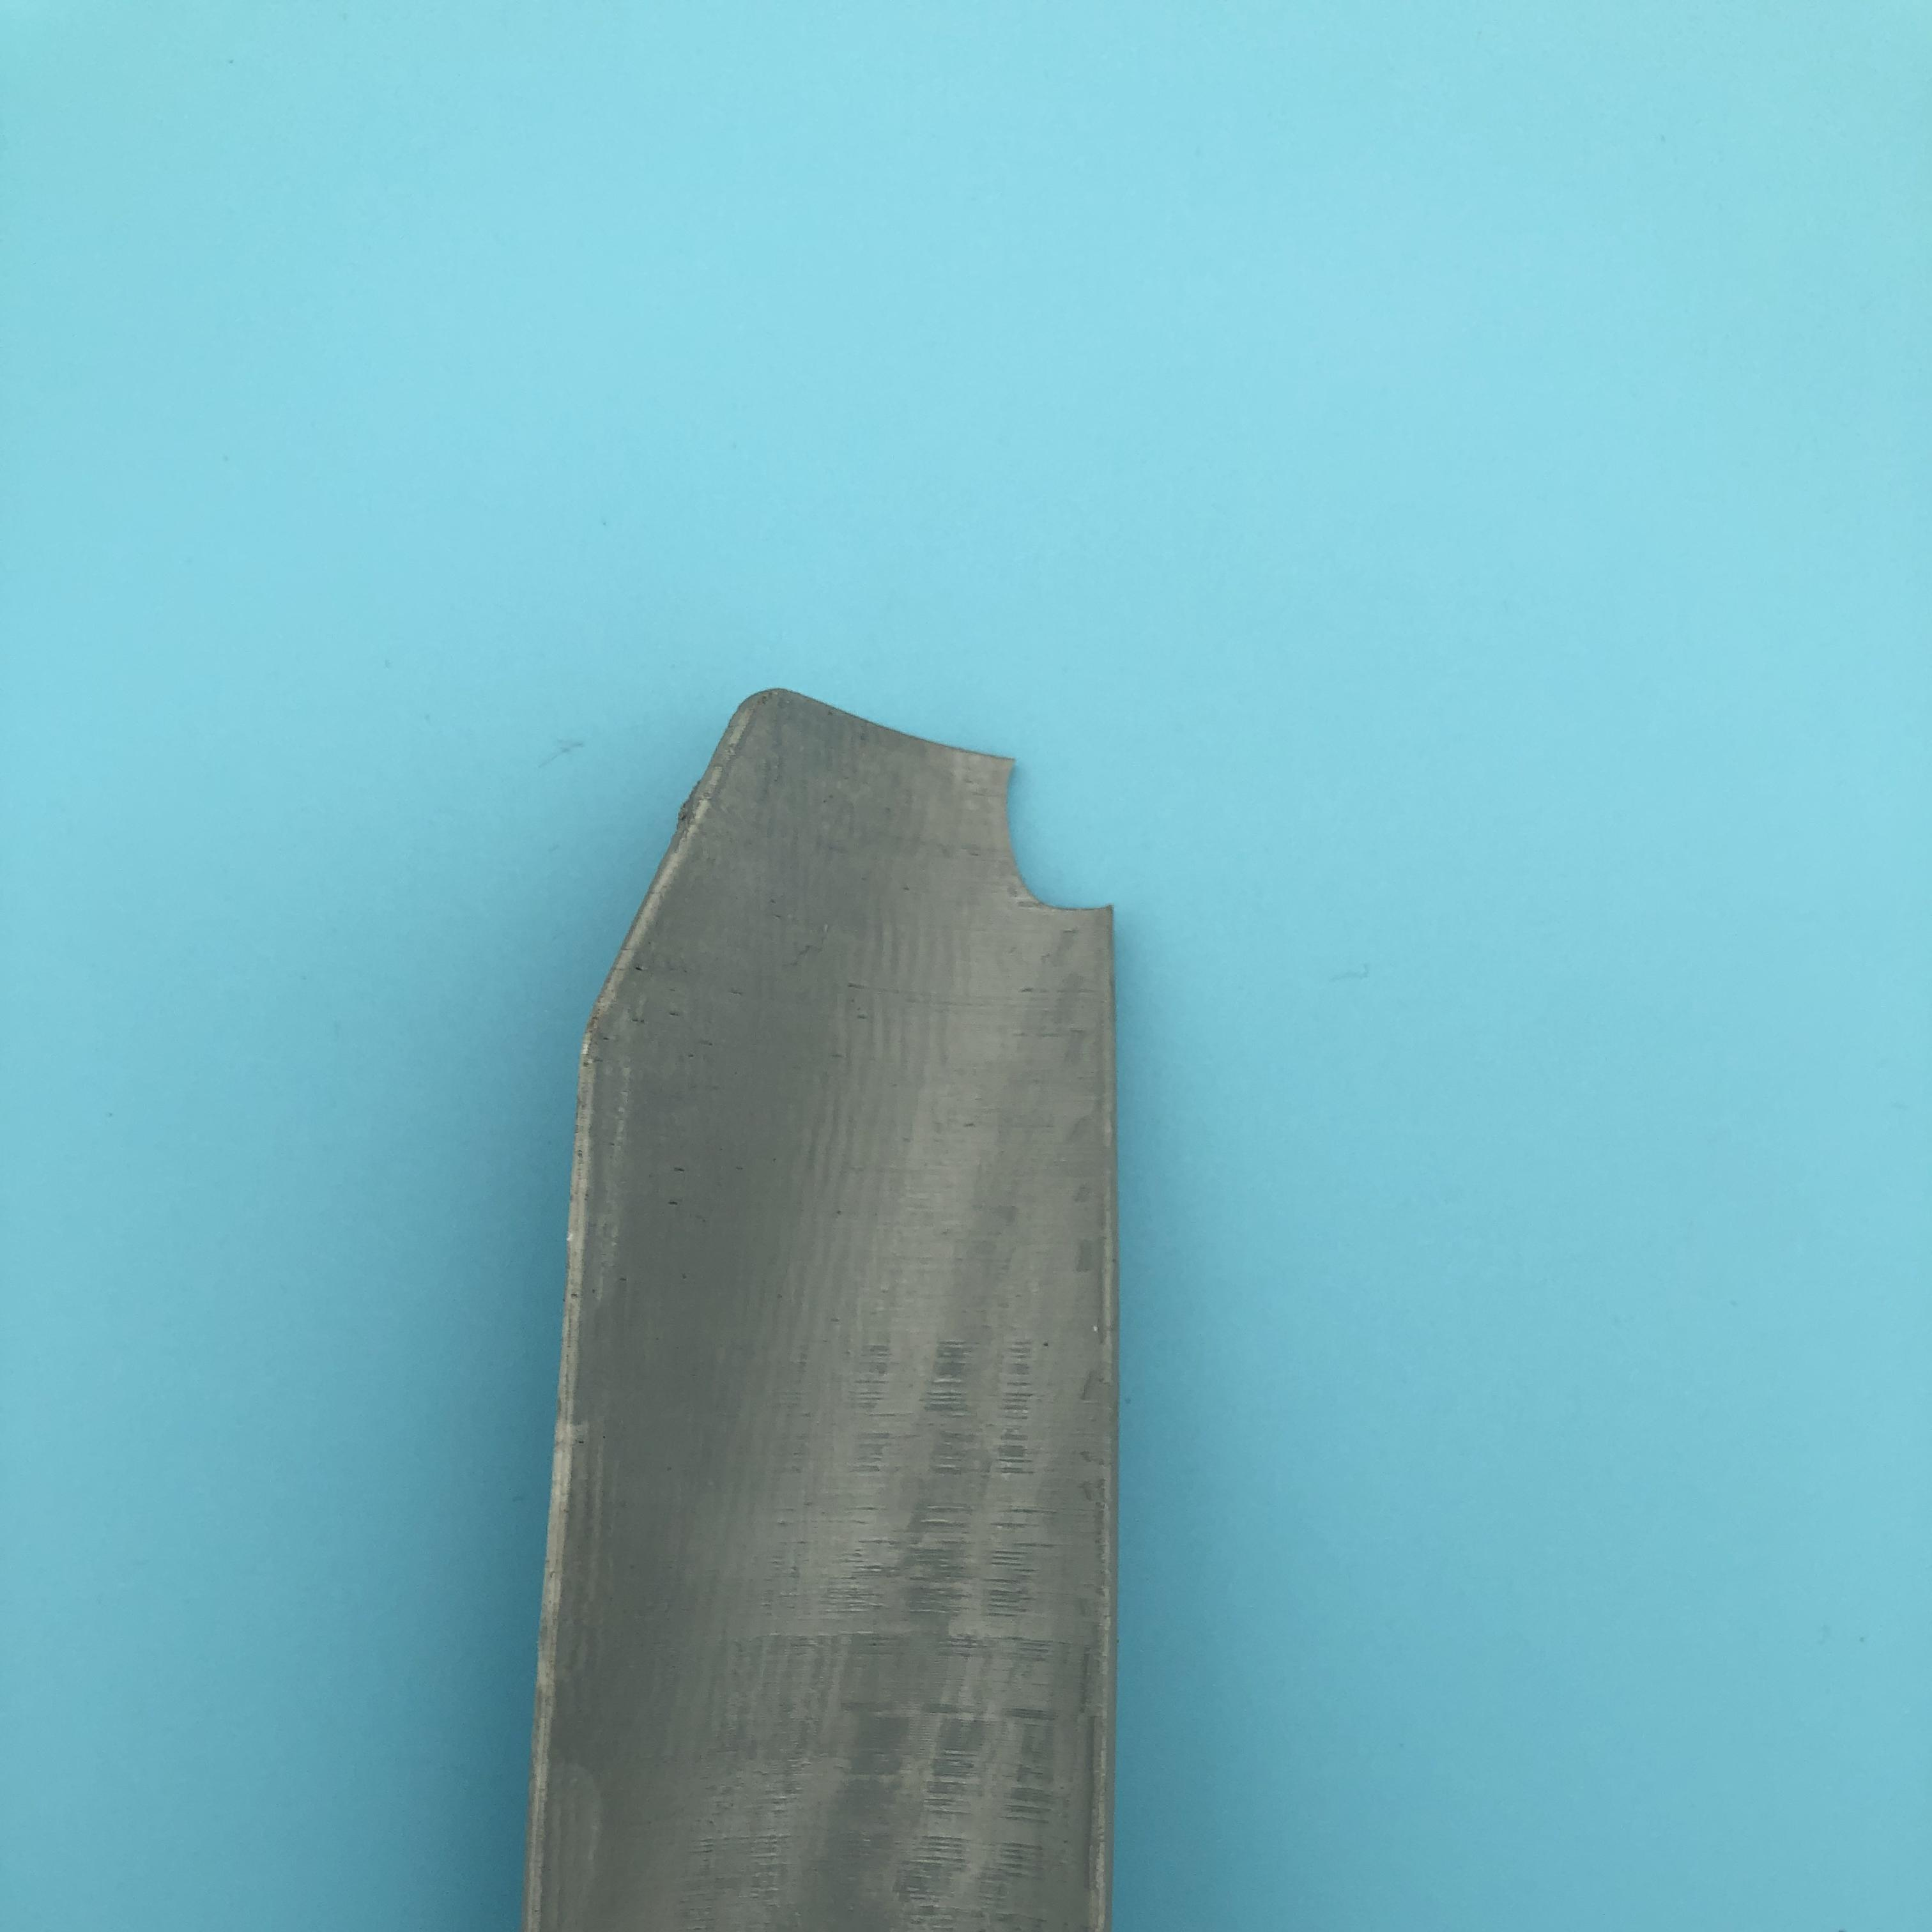fracture: (952, 759, 1120, 924)
